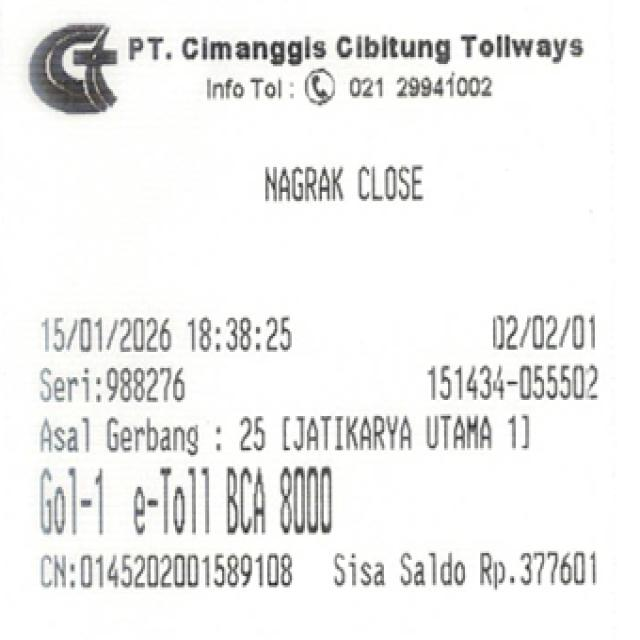date: (32, 310, 298, 365)
store: (103, 24, 610, 74)
total: (265, 462, 351, 541)
